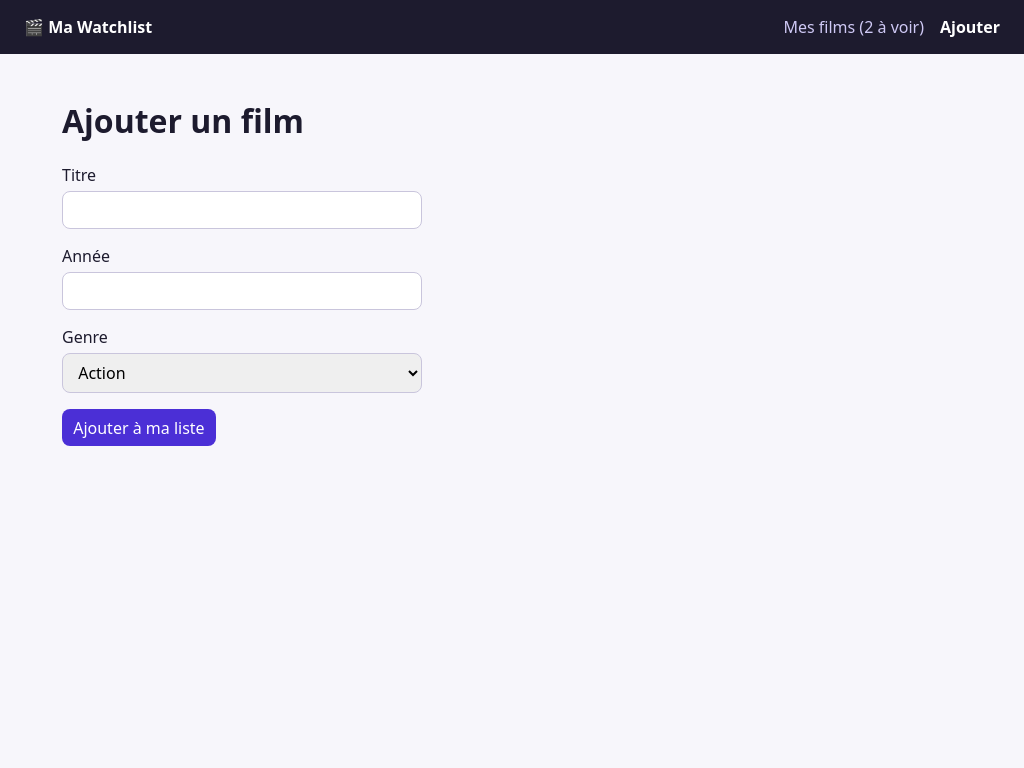
it: Ma Watchlist › ajoute un film, revient à la liste et affiche une notification
This screenshot has width=1024, height=768.
In the field labelled "Titre": (242, 210) [62,191,422,229], type "Dune"
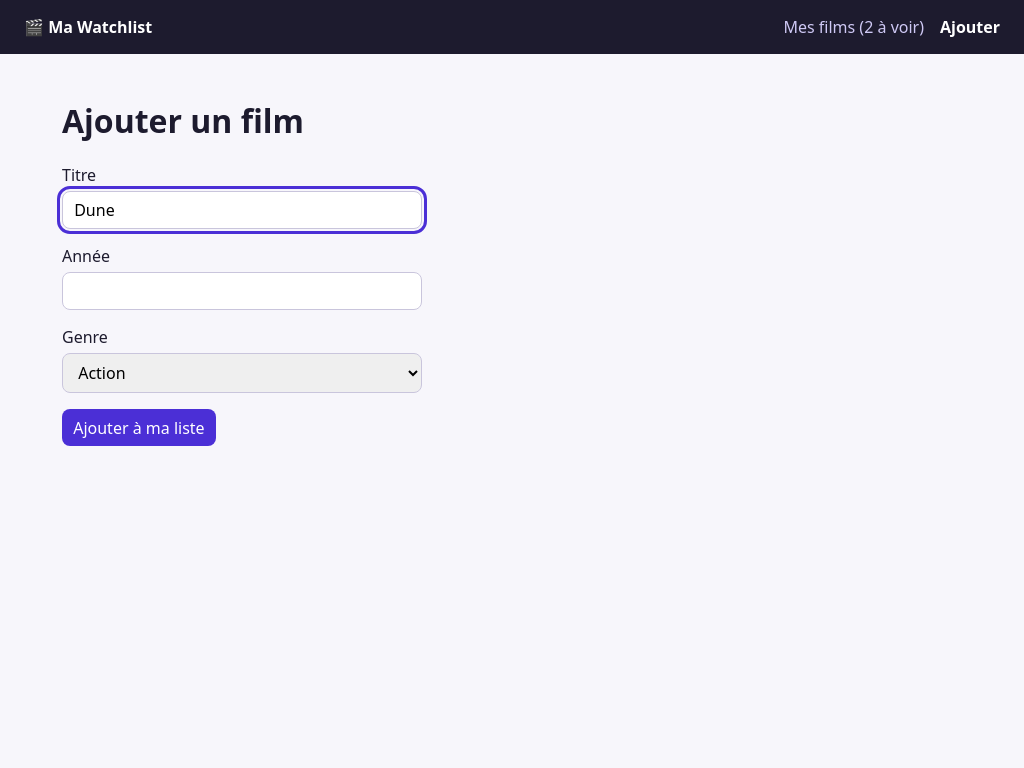
In the number field labelled "Année": (242, 291) [62,272,422,310], type "2021"
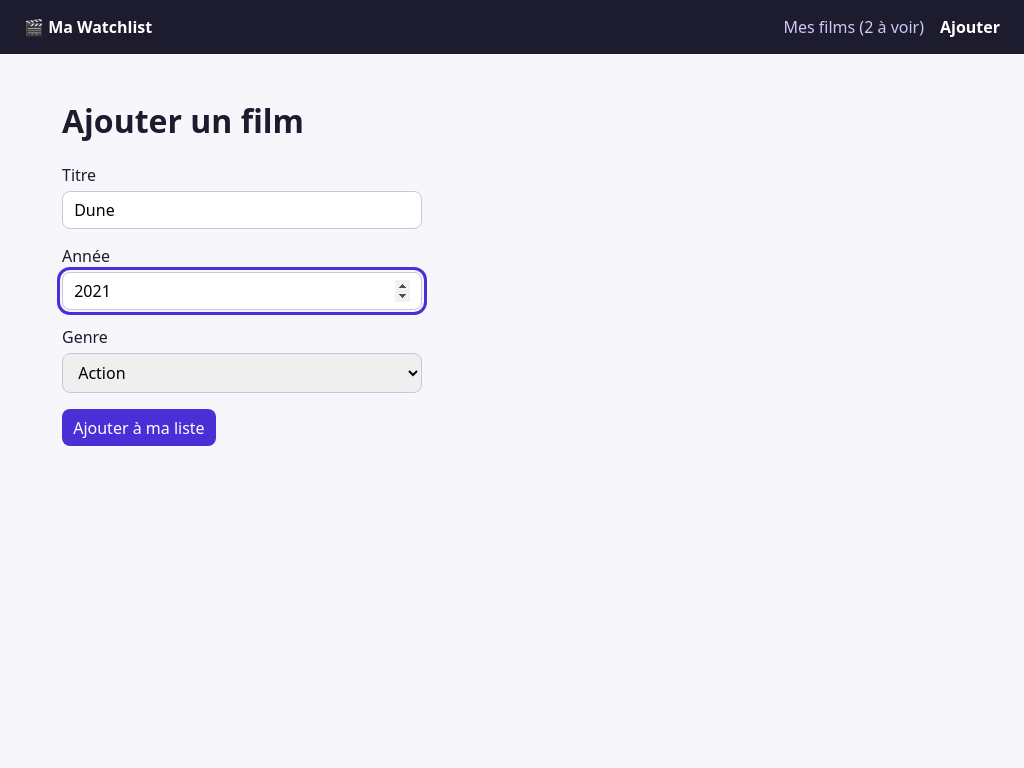
Select "Science-fiction" in the dropdown labelled "Genre": (242, 373) [62,353,422,393]
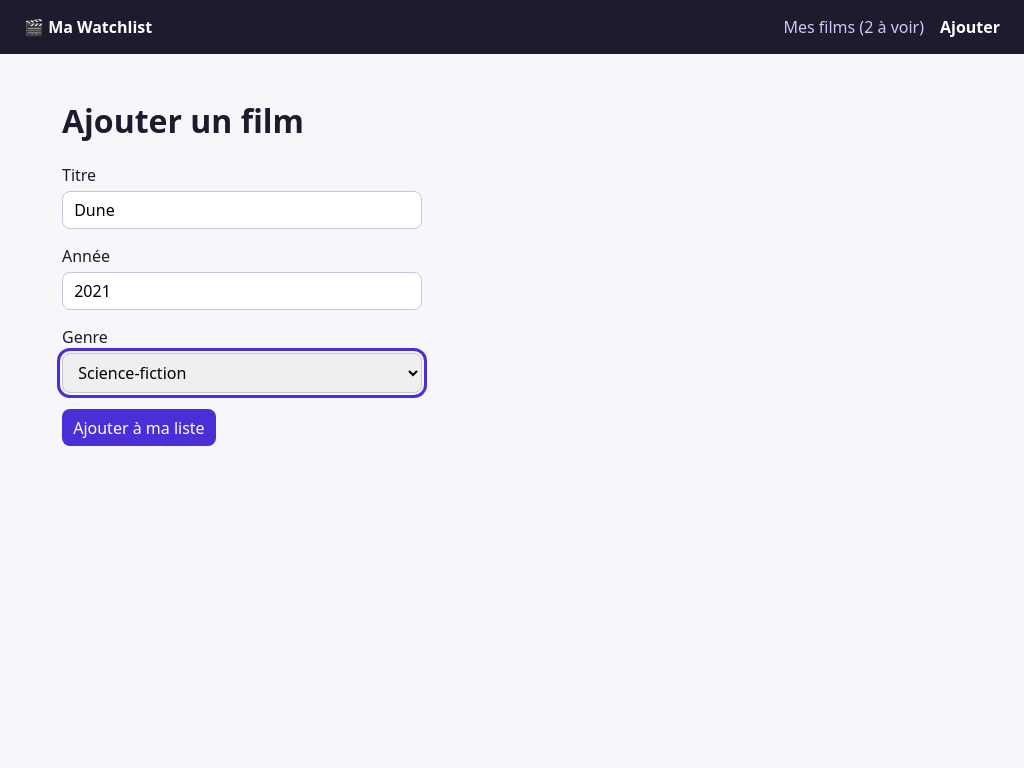
Click the button "Ajouter à ma liste": (139, 428) [62,409,216,446]
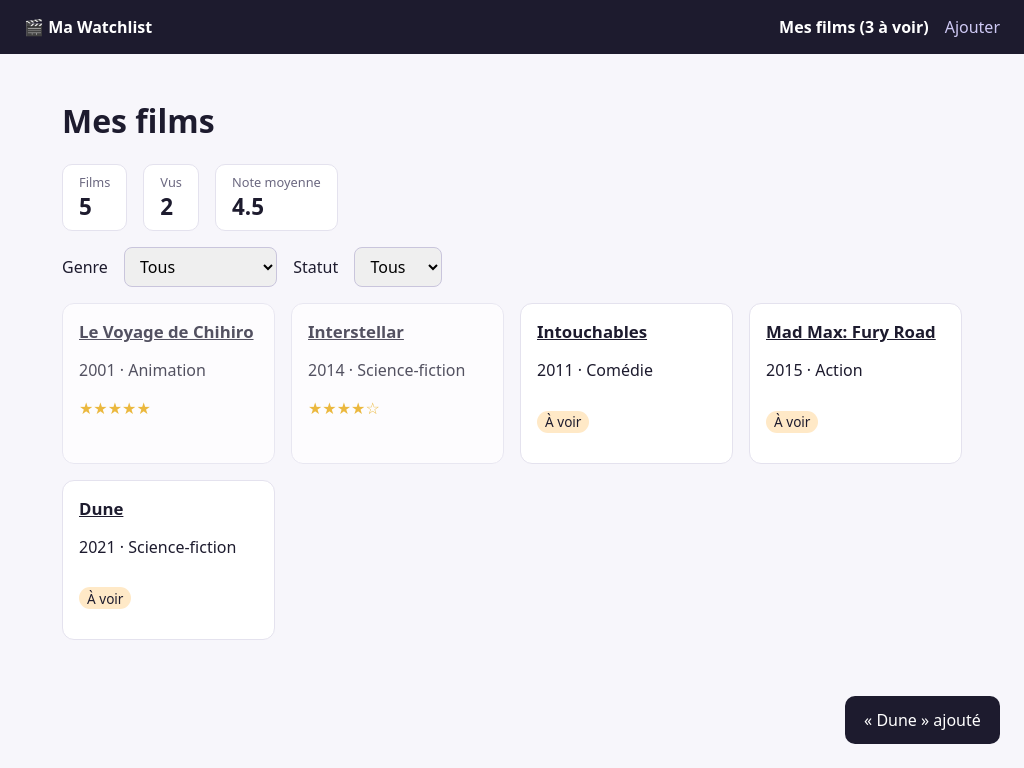
Check: the heading "Mes films" is shown, box [62,99,214,142]
Check: the link "Dune" is shown, box [79,497,123,520]
Check: the message reads "« Dune » ajouté", box [864,709,981,731]
